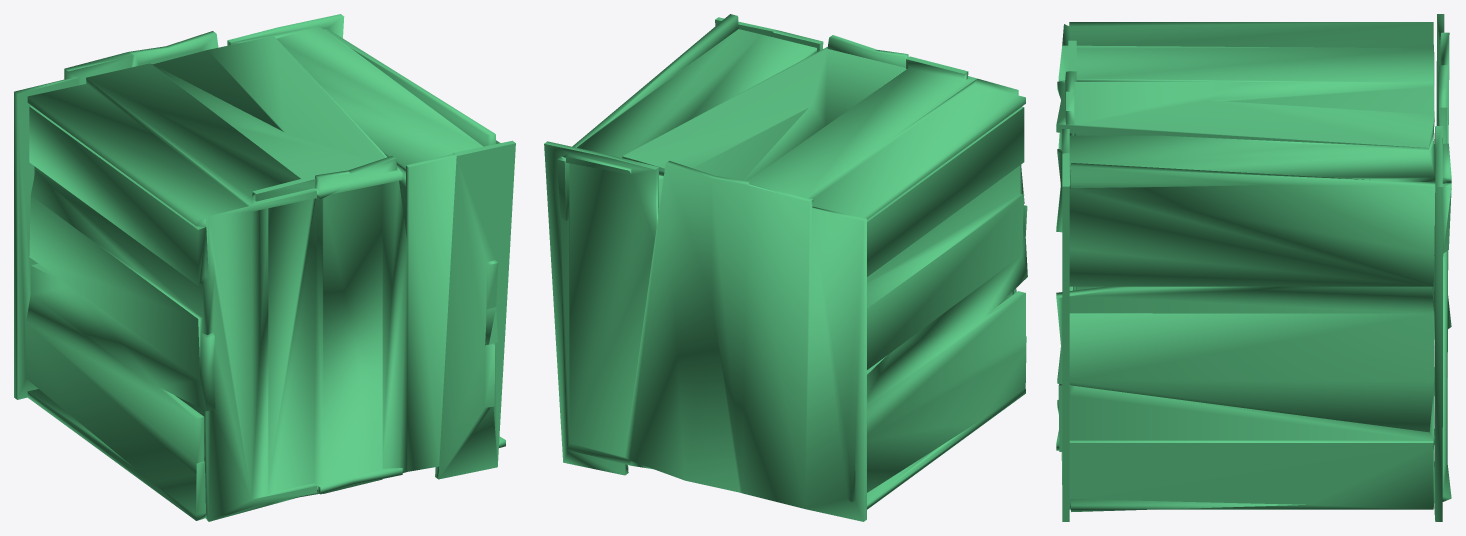
3 renders of one model, left to right at view 1: azimuth 30°, elevation 25°; view 2: azimuth 150°, elevation 25°; view 3: azimuth 270°, elevation 25°, orthographic. The views are drawn at different scales.
Parts seen in each view (by area): view 1: Object.1; view 2: Object.1; view 3: Object.1.
Part boxes in pixels (<box>): Object.1: <box>14,14,515,521</box>; Object.1: <box>544,14,1027,521</box>; Object.1: <box>1056,14,1451,521</box>.
Size of the model in its own units: 4461 by 4340 by 4339.
